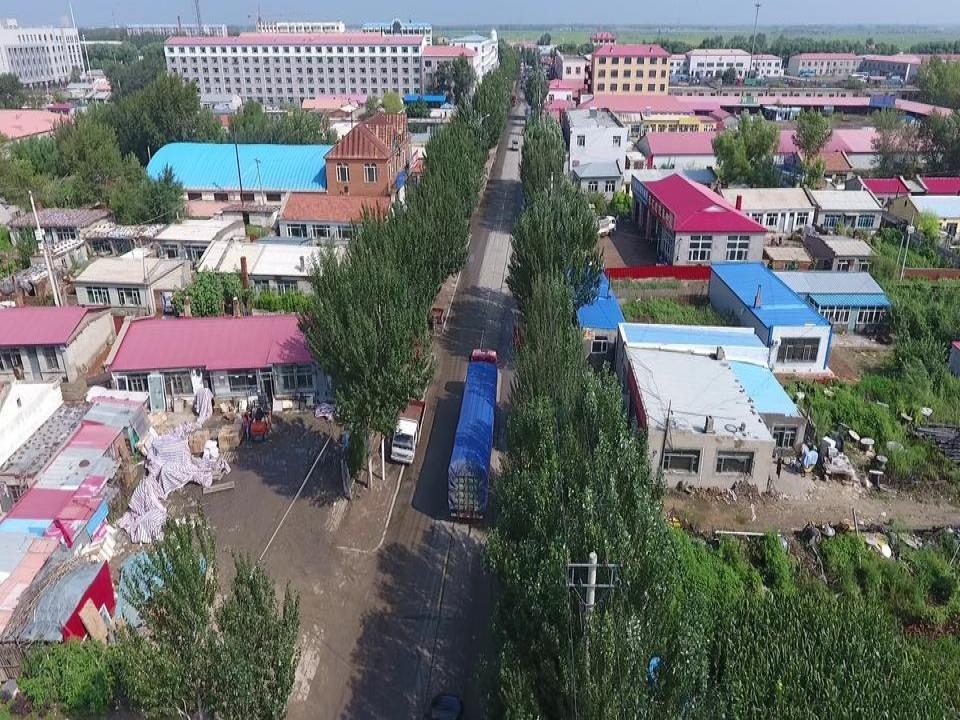car: (509, 136, 521, 149)
truck: (446, 347, 499, 520), (389, 391, 427, 468), (591, 209, 619, 239), (507, 88, 516, 107)
